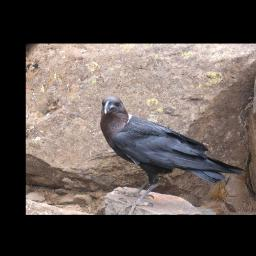Crow: (100, 96, 246, 214)
